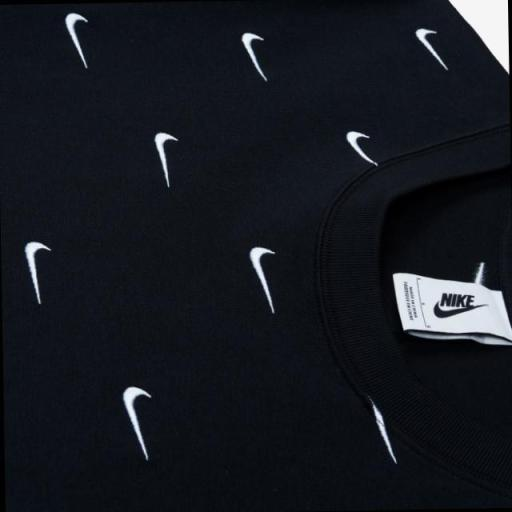Nike: (242, 242, 277, 316)
